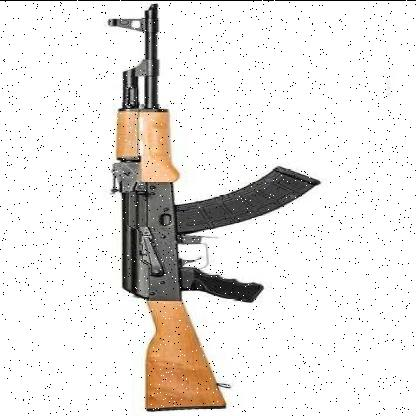rifle: (90, 1, 321, 412)
